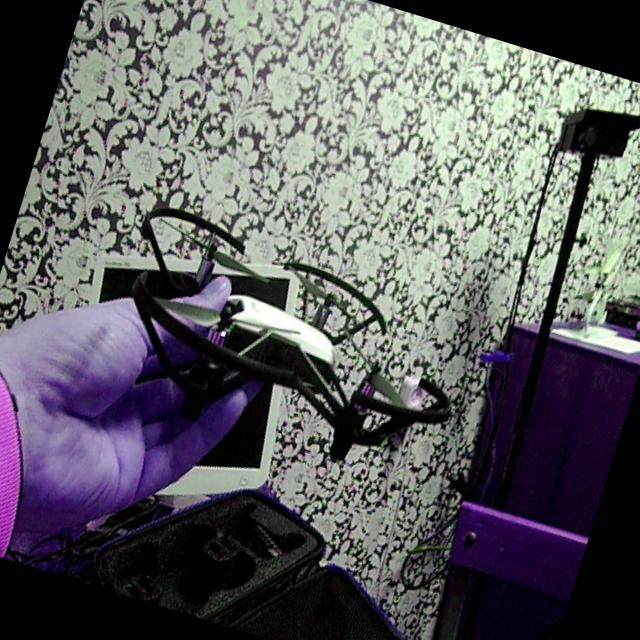drone: (80, 176, 496, 510)
